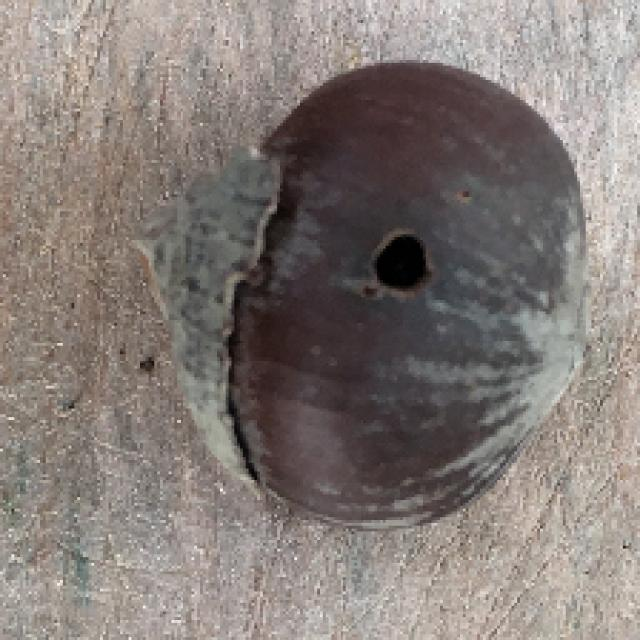damagedHazelnut: (154, 53, 602, 534)
